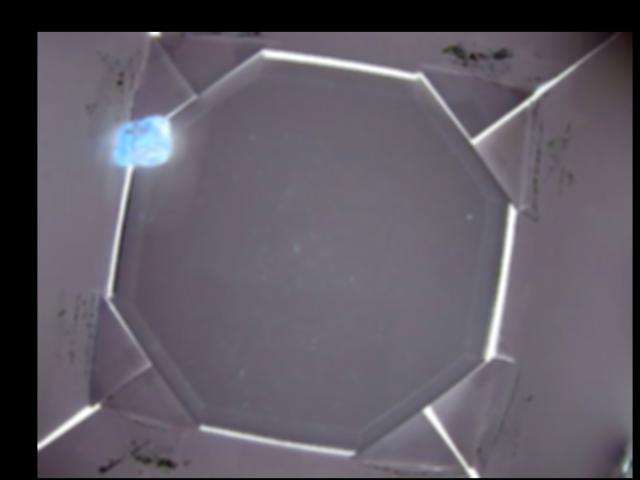Brisk: (112, 113, 169, 168)
